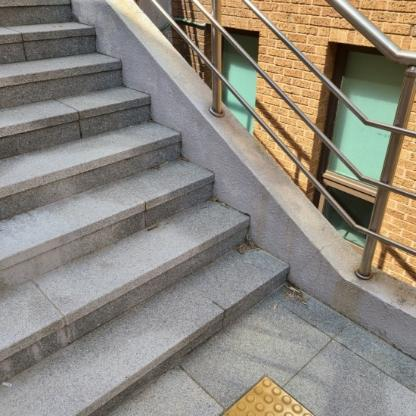stair: (0, 0, 289, 413)
